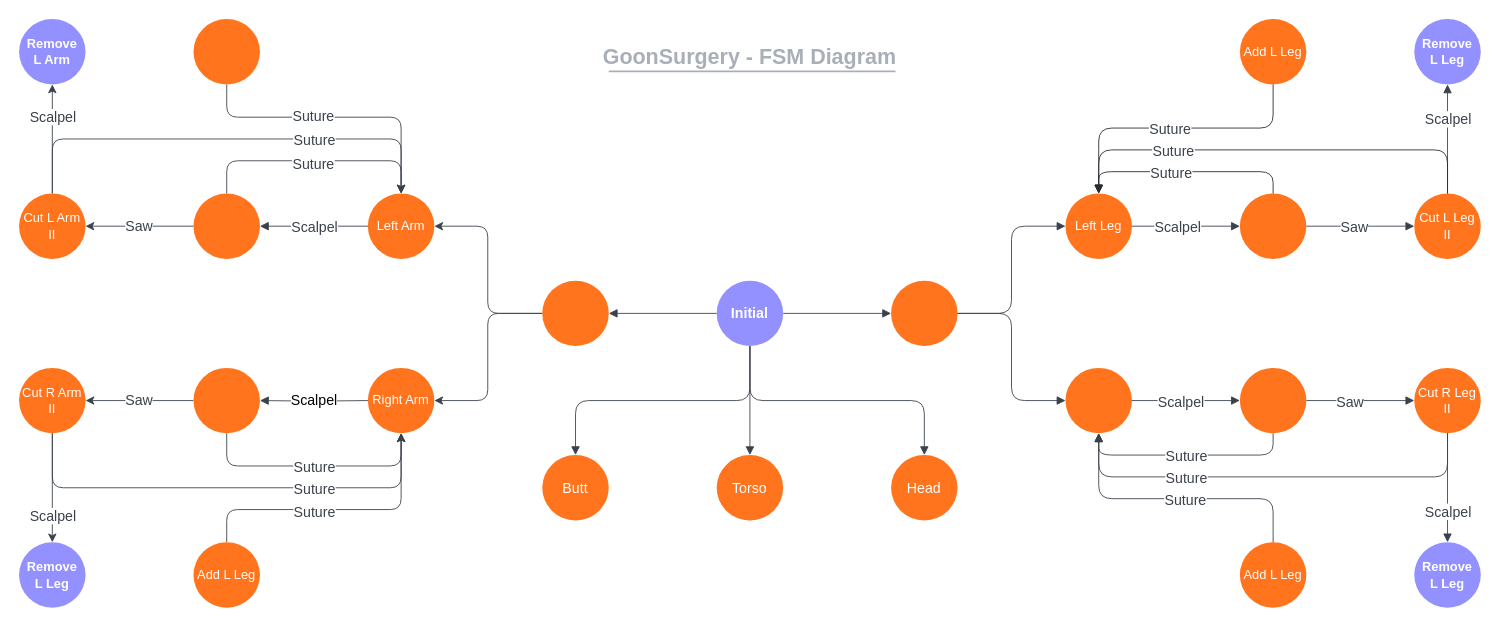
Some shapes in this 1500 by 627 pixel diagram are drawn without their labels. The box of each missing label's shape, as (x1, y1, x2, y2) in pixels:
Add L Arm: (192, 18, 260, 84)
Arms: (541, 280, 609, 346)
Cut L Arm: (192, 192, 260, 259)
Cut L Leg: (1239, 192, 1306, 259)
Cut R Arm: (192, 367, 260, 433)
Cut R Leg: (1239, 367, 1306, 433)
Legs: (890, 280, 957, 346)
MetricDuck | %date{mmmm d, yyyy}%: (399, 71, 1100, 88)
Right Leg: (1064, 367, 1132, 433)
